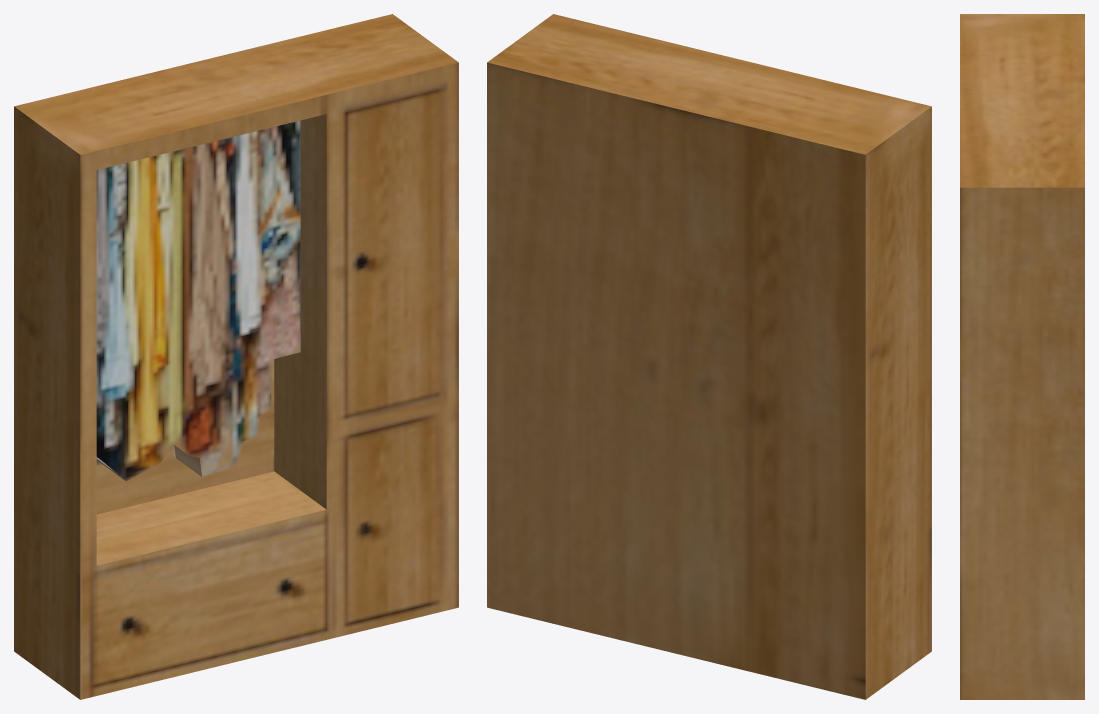
The model's file is guarda_roupa_a.glb.
3 views of the same model, side by side, from view 1: azimuth 30°, elevation 25°; view 2: azimuth 150°, elevation 25°; view 3: azimuth 270°, elevation 25° (orthographic). The views are drawn at different scales.
Visible parts, largest first — view 1: guarda_roupa_a; view 2: guarda_roupa_a; view 3: guarda_roupa_a.
Boxes of the visible parts, left/top/right/bottom form: guarda_roupa_a: left=14, top=14, right=458, bottom=699; guarda_roupa_a: left=487, top=14, right=931, bottom=699; guarda_roupa_a: left=960, top=14, right=1084, bottom=699.
Bounding box in the file's own units: 1.4 × 1.92 × 0.4243.
Materials: 1 (1 with a texture image).
